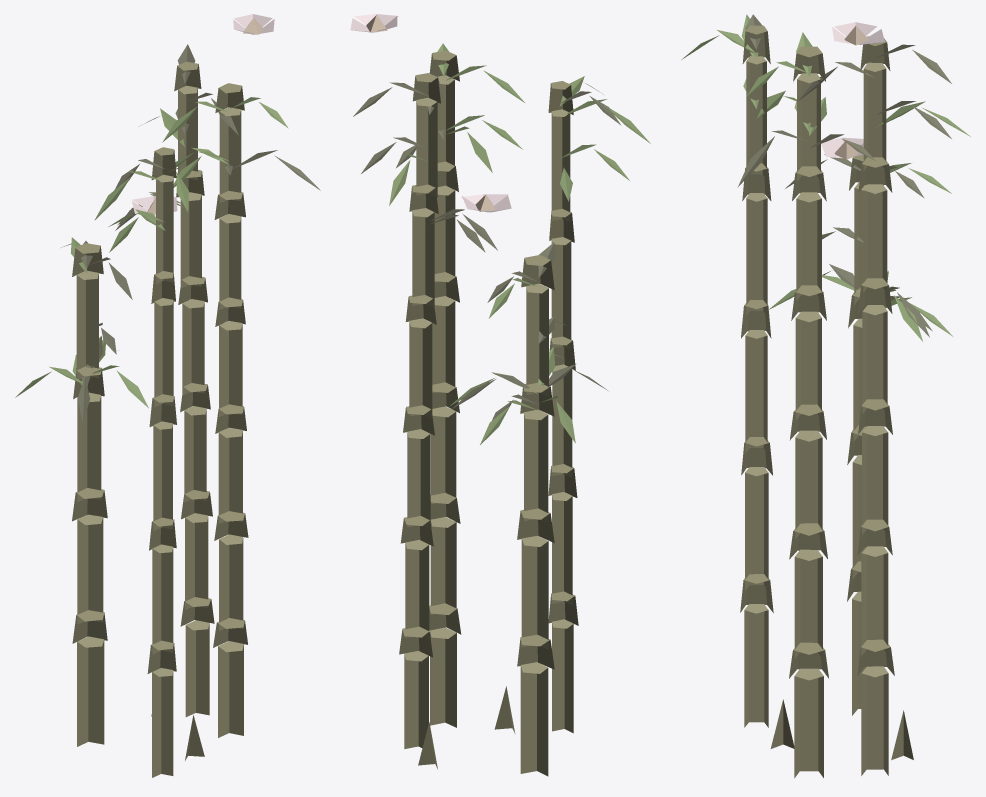
Rendered from hua.zhu__winter.glb.
The picture shows the model from 3 angles, left to right: view 1: azimuth 30°, elevation 25°; view 2: azimuth 150°, elevation 25°; view 3: azimuth 270°, elevation 25°; orthographic projection. The views are drawn at different scales.
Visible parts, largest first — view 1: hua.zhu__winter; view 2: hua.zhu__winter; view 3: hua.zhu__winter.
Part boxes in pixels (x1,y1,x2,y2): hua.zhu__winter: [15, 14, 320, 777]; hua.zhu__winter: [350, 14, 650, 776]; hua.zhu__winter: [681, 14, 970, 778].
Bounding box in the file's own units: 2.07 × 5.8 × 1.98.
